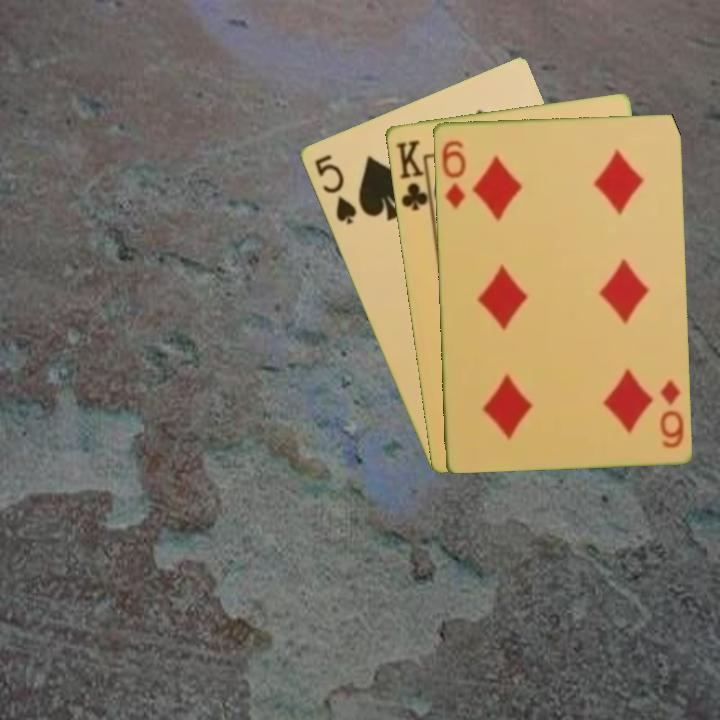5s: (310, 150, 359, 228)
6d: (655, 376, 687, 451), (437, 136, 468, 211)
Kc: (391, 136, 434, 214)
